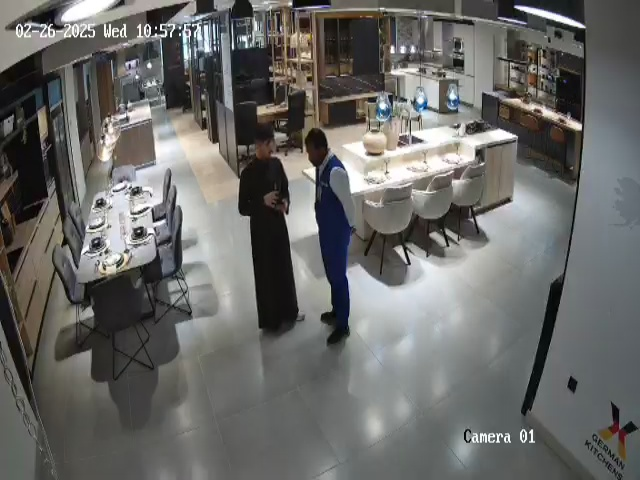employee: (304, 127, 356, 346)
male: (238, 123, 305, 336)
